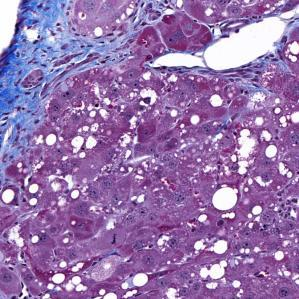fibrosis: (15, 9, 119, 82), (0, 72, 42, 153)
